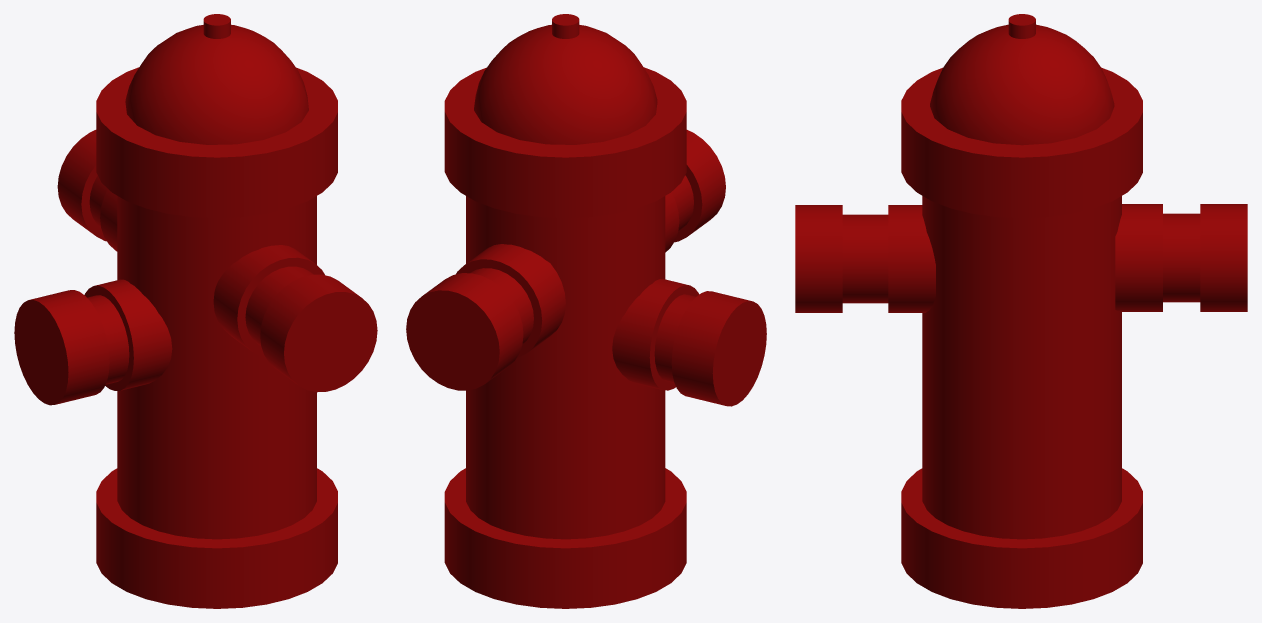
The model's file is MK_FIREPLUG.fbx.
3 renders of one model, left to right at view 1: azimuth 30°, elevation 25°; view 2: azimuth 150°, elevation 25°; view 3: azimuth 270°, elevation 25°, orthographic.
Visible parts, largest first — view 1: pCylinder1, pCylinder2, pCylinder3, pSphere1, pCylinder5, pCylinder10, pCylinder11, pCylinder4, pCylinder7, pCylinder12, pCylinder6, pCylinder8 (+2 smaller); view 2: pCylinder1, pCylinder2, pCylinder3, pSphere1, pCylinder7, pCylinder10, pCylinder11, pCylinder8, pCylinder5, pCylinder12, pCylinder9, pCylinder6 (+2 smaller); view 3: pCylinder1, pCylinder2, pCylinder3, pSphere1, pCylinder5, pCylinder7, pCylinder8, pCylinder4, pCylinder6, pCylinder9, pCylinder13.
Boxes of the visible parts, x1,y1,x2,y2 form: pCylinder1: (117,196,316,539); pCylinder2: (96,67,337,218); pCylinder3: (96,468,337,608); pSphere1: (125,24,308,144); pCylinder5: (260,274,377,392); pCylinder10: (14,290,109,405); pCylinder11: (84,279,172,390); pCylinder4: (213,245,324,356); pCylinder7: (57,130,106,241); pCylinder12: (87,295,129,384); pCylinder6: (245,266,313,345); pCylinder8: (100,189,117,251); pCylinder1: (466,196,665,539); pCylinder2: (444,67,686,218); pCylinder3: (444,468,686,608); pSphere1: (474,24,657,144); pCylinder7: (406,273,523,390); pCylinder10: (671,291,766,406); pCylinder11: (612,278,699,390); pCylinder8: (456,244,565,357); pCylinder5: (674,130,725,242); pCylinder12: (654,294,695,382); pCylinder9: (470,268,533,344); pCylinder6: (671,175,693,231); pCylinder1: (922,196,1121,539); pCylinder2: (901,67,1142,218); pCylinder3: (901,468,1142,608); pSphere1: (930,24,1114,145); pCylinder5: (795,205,842,312); pCylinder7: (1200,204,1247,311); pCylinder8: (1115,204,1162,311); pCylinder4: (888,205,935,312); pCylinder6: (842,214,888,303); pCylinder9: (1163,213,1200,302); pCylinder13: (1008,14,1035,38).
Bounding box in the file's own units: 2.41 × 4.41 × 3.37.
